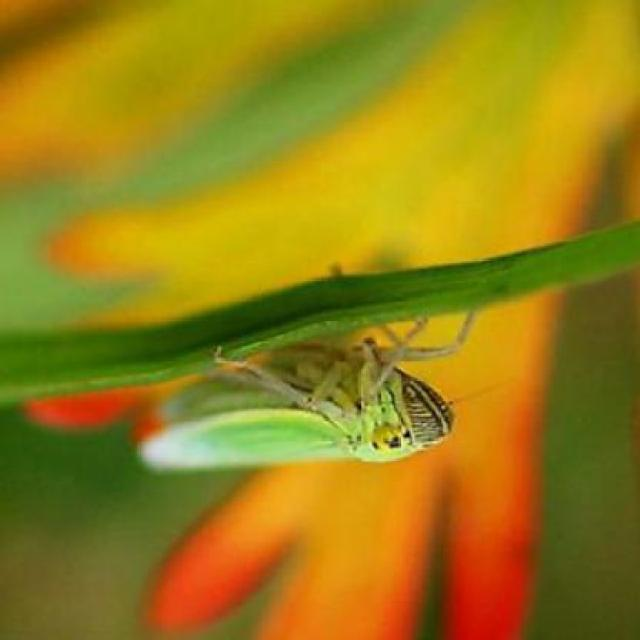green-leafhopper: (131, 336, 464, 472)
